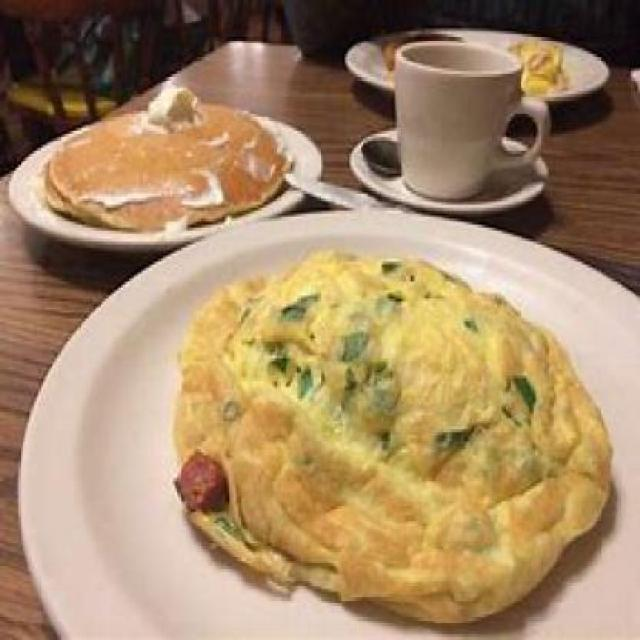ice cream: (140, 82, 200, 122)
omelette: (165, 239, 613, 626), (508, 31, 572, 97)
pancakes: (39, 110, 292, 222)
